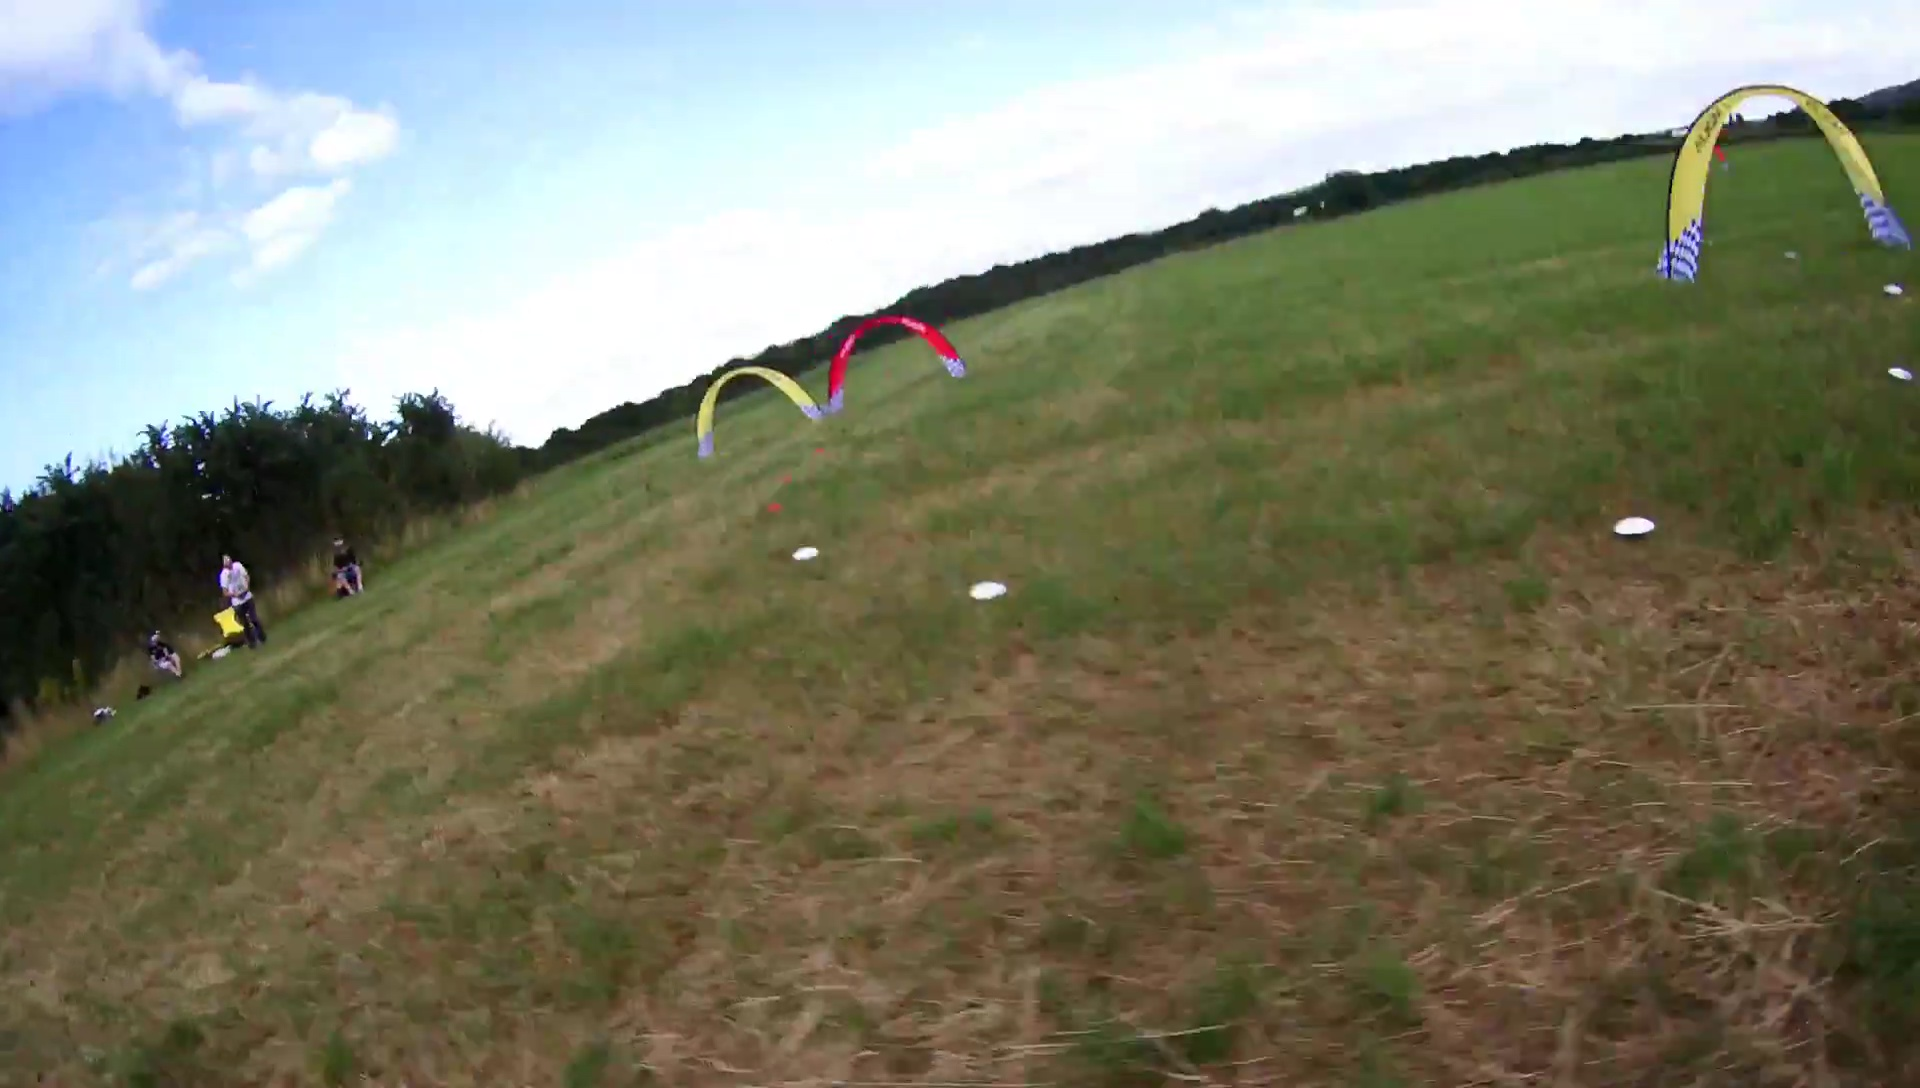gate: (1656, 82, 1909, 286), (828, 315, 968, 414), (691, 364, 823, 462)
